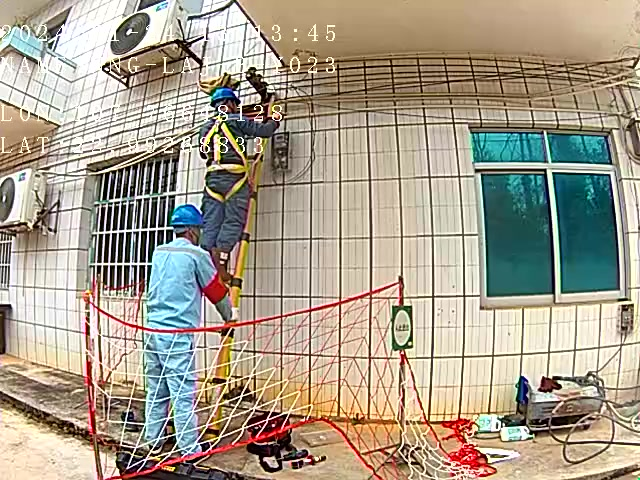badge: (203, 271, 231, 304)
downsuit: (144, 336, 199, 452), (202, 178, 250, 249)
halt: (170, 204, 207, 245), (211, 87, 242, 114)
intosign: (390, 302, 416, 354)
person: (141, 202, 233, 461), (197, 86, 278, 256)
safebelt: (201, 102, 276, 202)
shoe: (210, 247, 233, 282)
support: (136, 202, 237, 461)
upsuit: (143, 237, 232, 330), (196, 117, 276, 176)
wglove: (228, 305, 241, 324)
